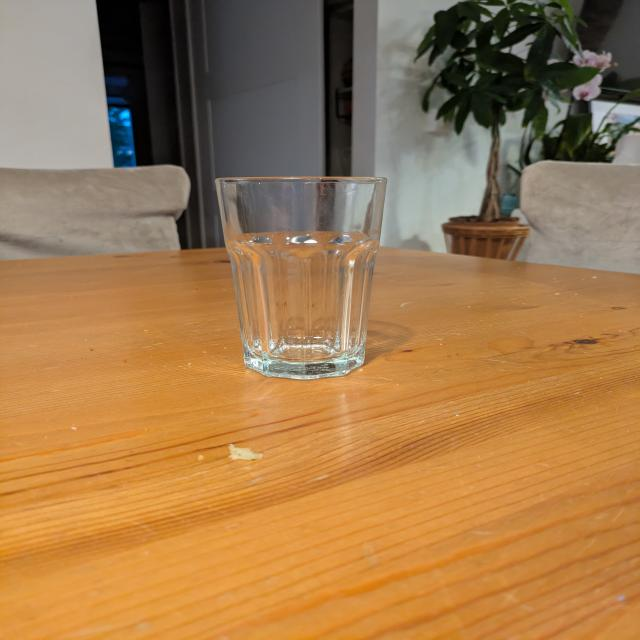ok g1: (217, 177, 390, 382)
